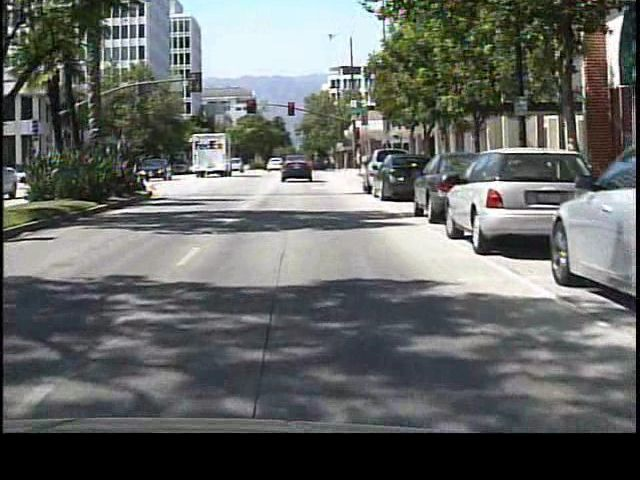person: (352, 148, 366, 178)
